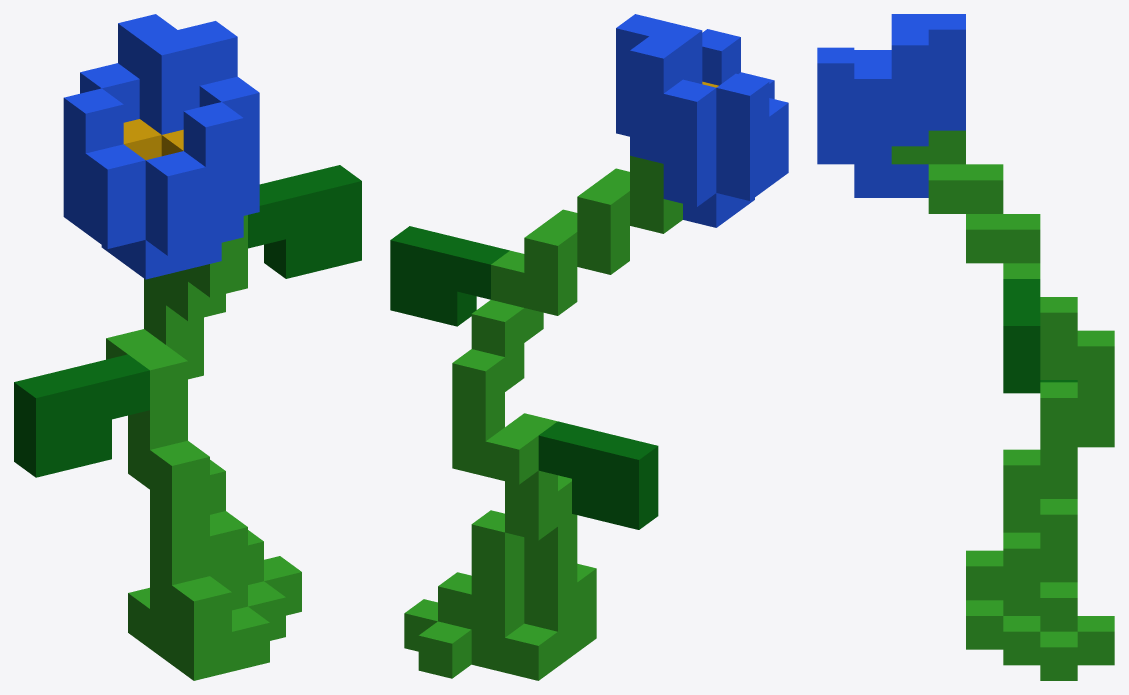
Rendered from flowers-1.obj.
3 views of the same model, side by side, from view 1: azimuth 30°, elevation 25°; view 2: azimuth 150°, elevation 25°; view 3: azimuth 270°, elevation 25° (orthographic). The views are drawn at different scales.
Size of the model in its own units: 0.9 by 1.7 by 0.8.
Materials: 1 (1 with a texture image).
